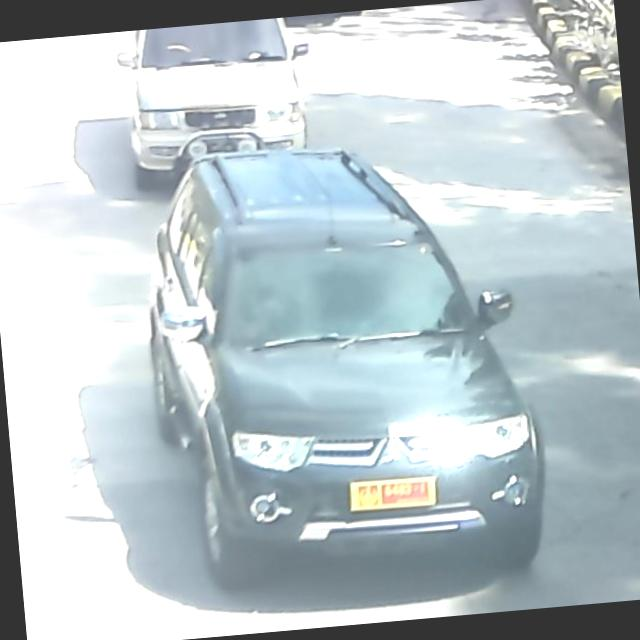plate: (348, 468, 443, 516)
